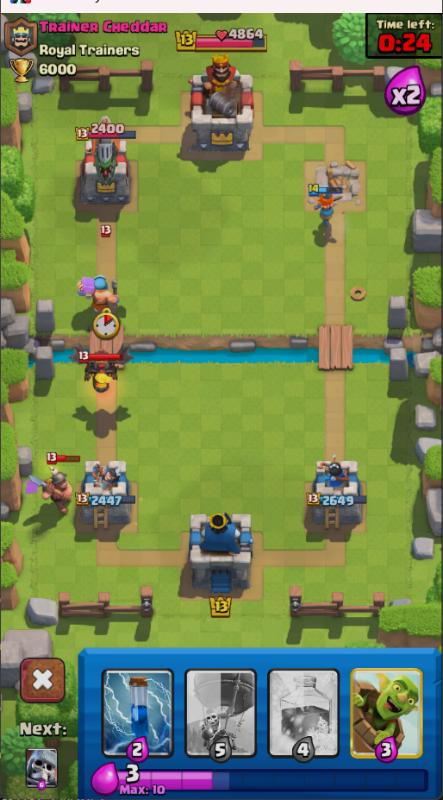valkyrie: (314, 188, 343, 227)
